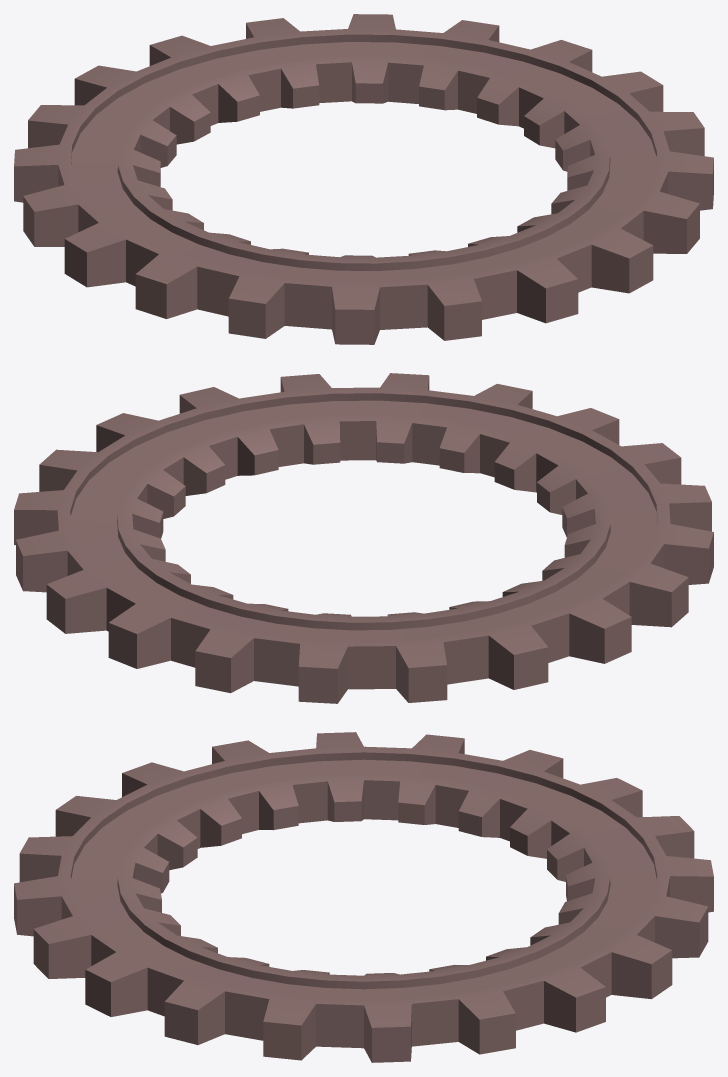
Rendered from gear_05.fbx.
3 views of the same model, one above another, from view 1: azimuth 30°, elevation 25°; view 2: azimuth 150°, elevation 25°; view 3: azimuth 270°, elevation 25° (orthographic).
Parts seen in each view (by area): view 1: pPipe1; view 2: pPipe1; view 3: pPipe1.
Boxes of the visible parts, <box> form: pPipe1: <box>14,14,713,344</box>; pPipe1: <box>14,373,713,703</box>; pPipe1: <box>14,732,713,1062</box>.
Bounding box in the file's own units: 31.47 × 2.12 × 31.47.
